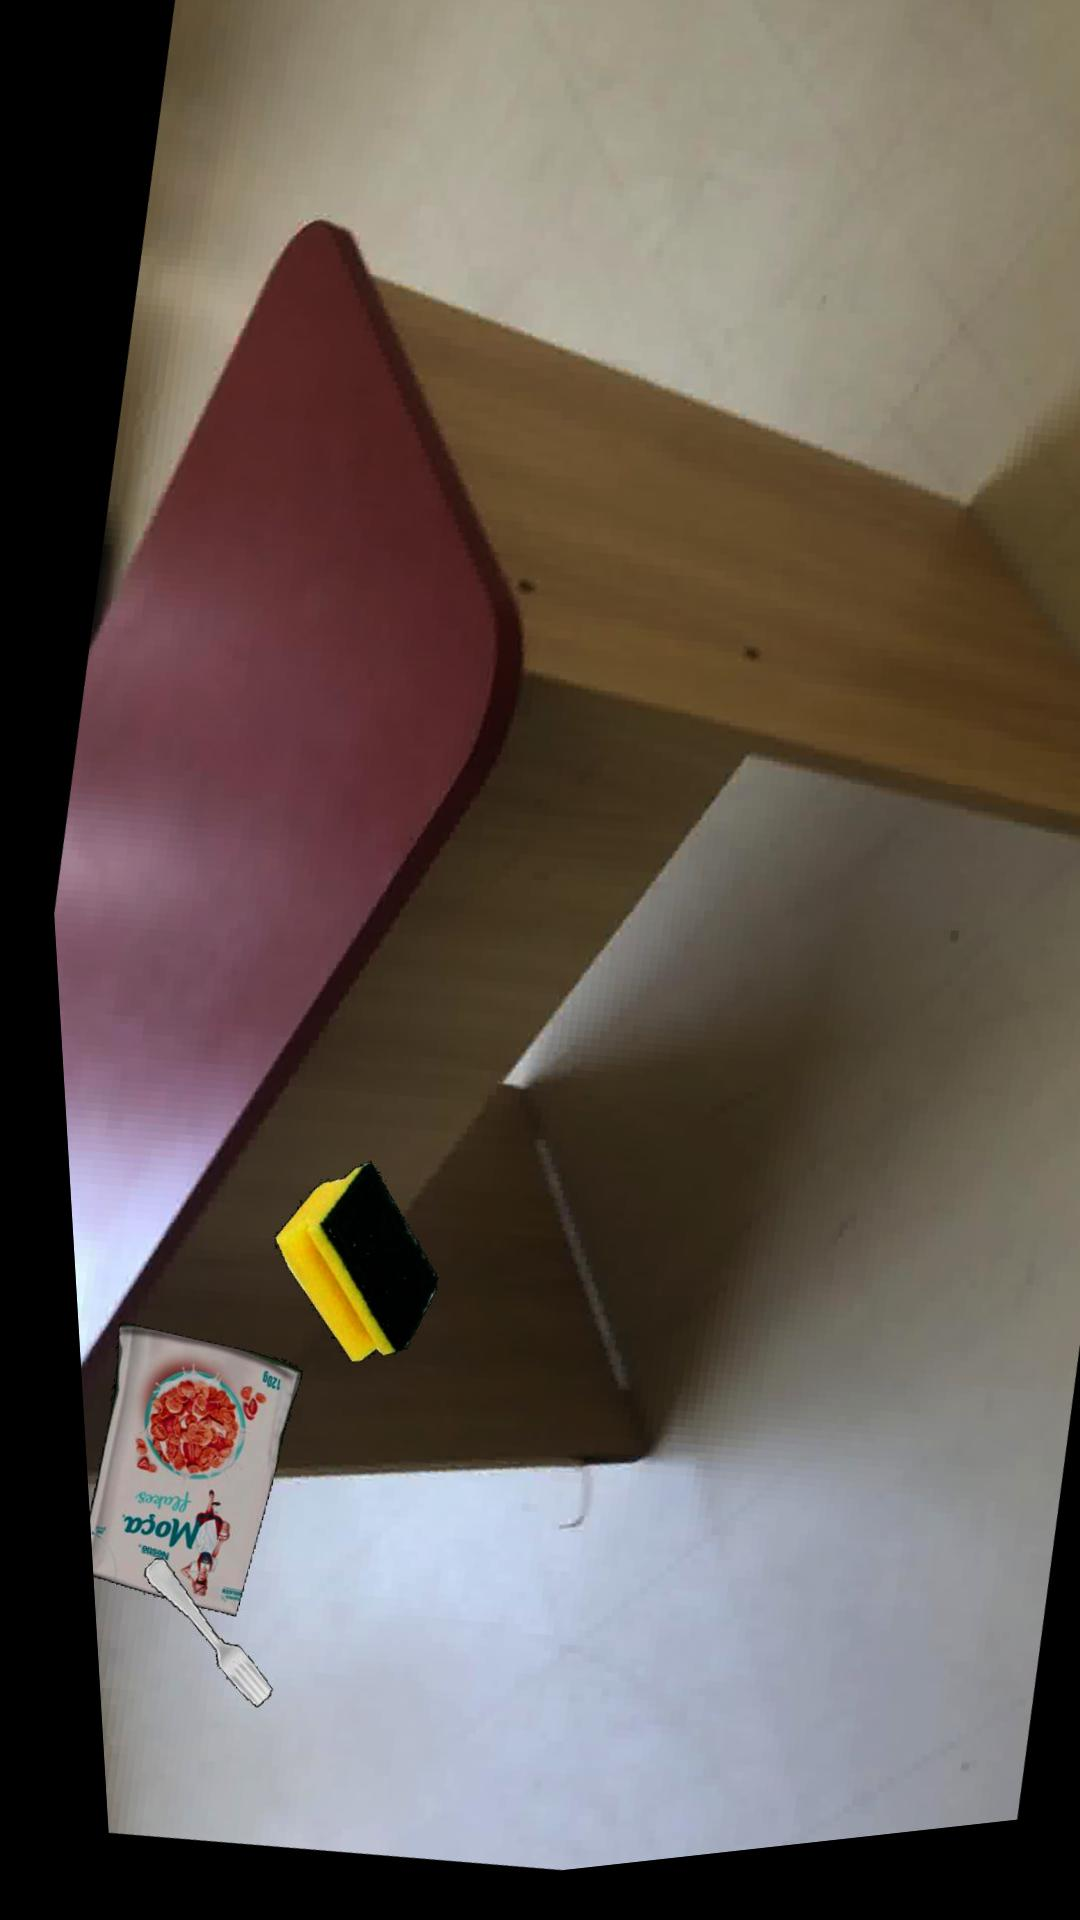corn flakes: (71, 1325, 285, 1621)
fork: (124, 1560, 252, 1712)
sponge: (258, 1168, 422, 1370)
